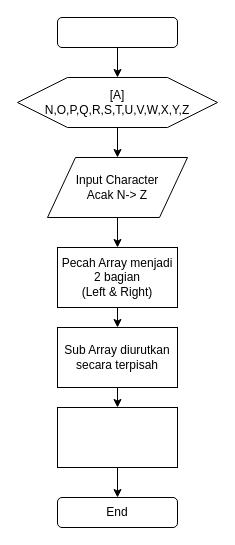
Image size: 235x545. Some labels were removed from this diagram. The shapes that lost their labels are listed below. From the top down, each one's box as (x1, y1, x2, y2) in pixels, then its label:
(56, 16, 178, 48): START
(56, 406, 178, 468): Kombinasi dan gabungkan
